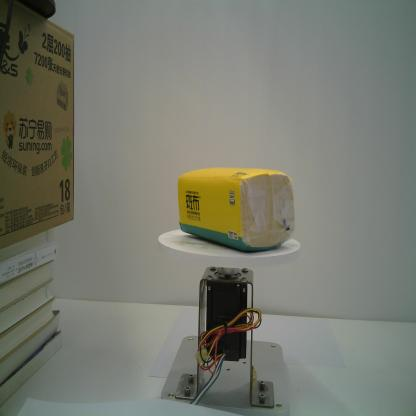Tissue: (177, 165, 297, 255)
